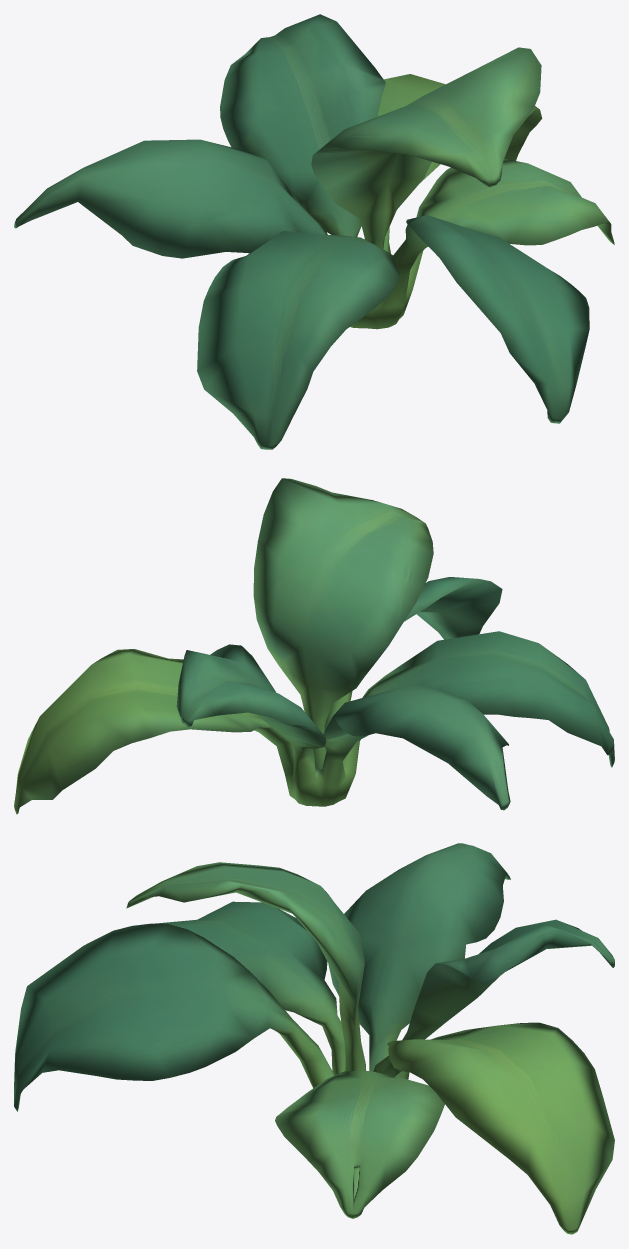
3 views of the same model, one above another, from view 1: azimuth 30°, elevation 25°; view 2: azimuth 150°, elevation 25°; view 3: azimuth 270°, elevation 25° (orthographic). The views are drawn at different scales.
Parts seen in each view (by area): view 1: tripo_node_96234999-df7b-4760-b155-1c937135faba; view 2: tripo_node_96234999-df7b-4760-b155-1c937135faba; view 3: tripo_node_96234999-df7b-4760-b155-1c937135faba.
Boxes of the visible parts, x1=… form: tripo_node_96234999-df7b-4760-b155-1c937135faba: x1=14, y1=14, x2=614, y2=449; tripo_node_96234999-df7b-4760-b155-1c937135faba: x1=14, y1=478, x2=614, y2=814; tripo_node_96234999-df7b-4760-b155-1c937135faba: x1=14, y1=843, x2=614, y2=1234.
Size of the model in its own units: 0.998 by 0.5215 by 0.9941.
Materials: 1 (1 with a texture image).
